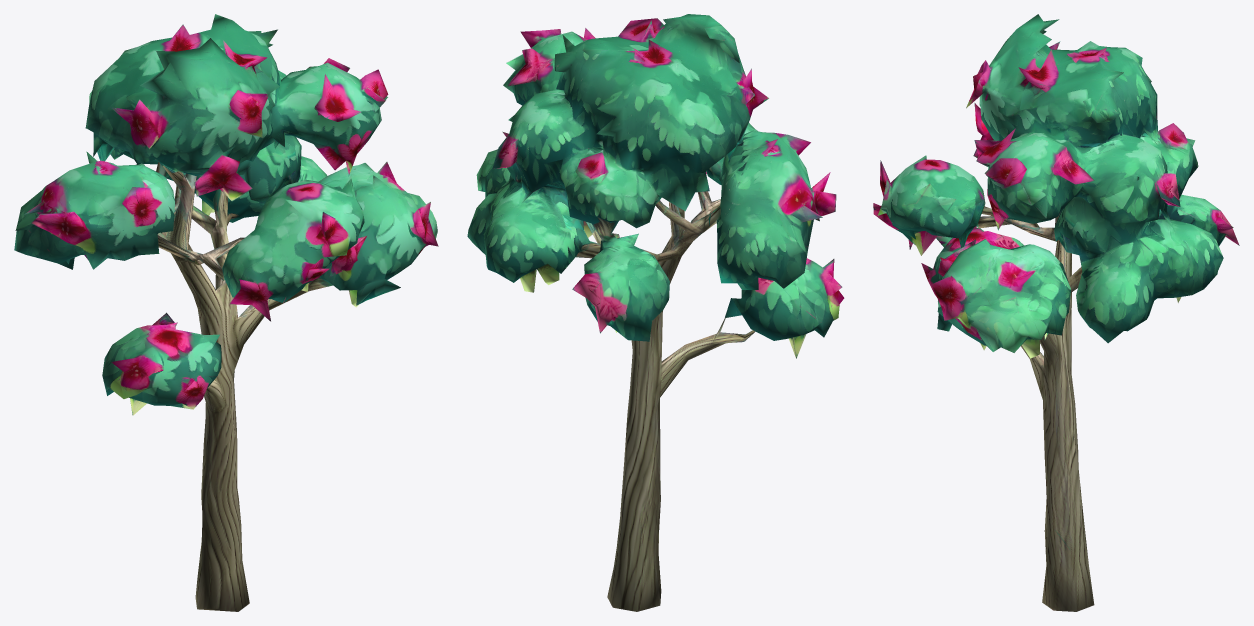
The picture shows the model from 3 angles, left to right: view 1: azimuth 30°, elevation 25°; view 2: azimuth 150°, elevation 25°; view 3: azimuth 270°, elevation 25°; orthographic projection. The views are drawn at different scales.
Visible parts, largest first — view 1: Mesh_0; view 2: Mesh_0; view 3: Mesh_0.
Part boxes in pixels (bbox=[...]): Mesh_0: bbox=[14, 14, 438, 611]; Mesh_0: bbox=[467, 14, 844, 611]; Mesh_0: bbox=[873, 14, 1239, 611].
Bounding box in the file's own units: 1.3 × 1.91 × 1.14.
Materials: 1 (1 with a texture image).
